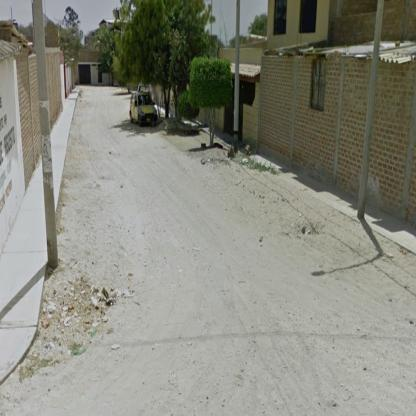Obstaculo: (14, 255, 132, 388)
Vehiculo: (129, 91, 159, 129)
